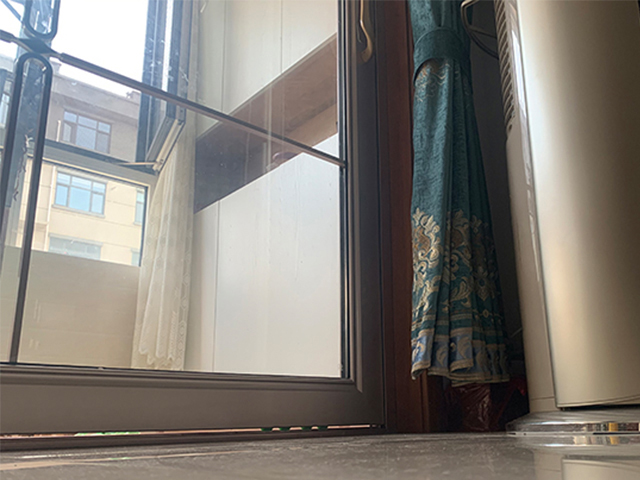curtain: (404, 1, 512, 386)
